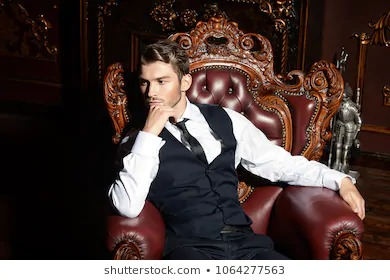F_shirt: (110, 99, 355, 213)
F_tie: (170, 115, 207, 168)
